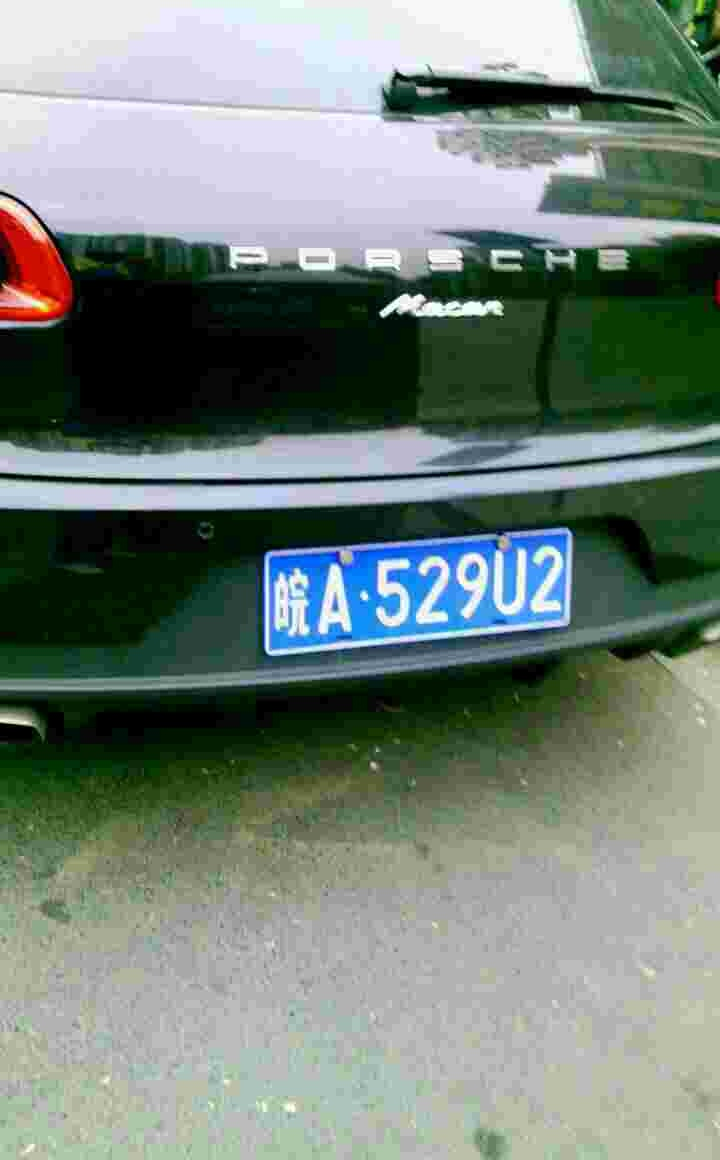car_blue: (257, 523, 582, 663)
